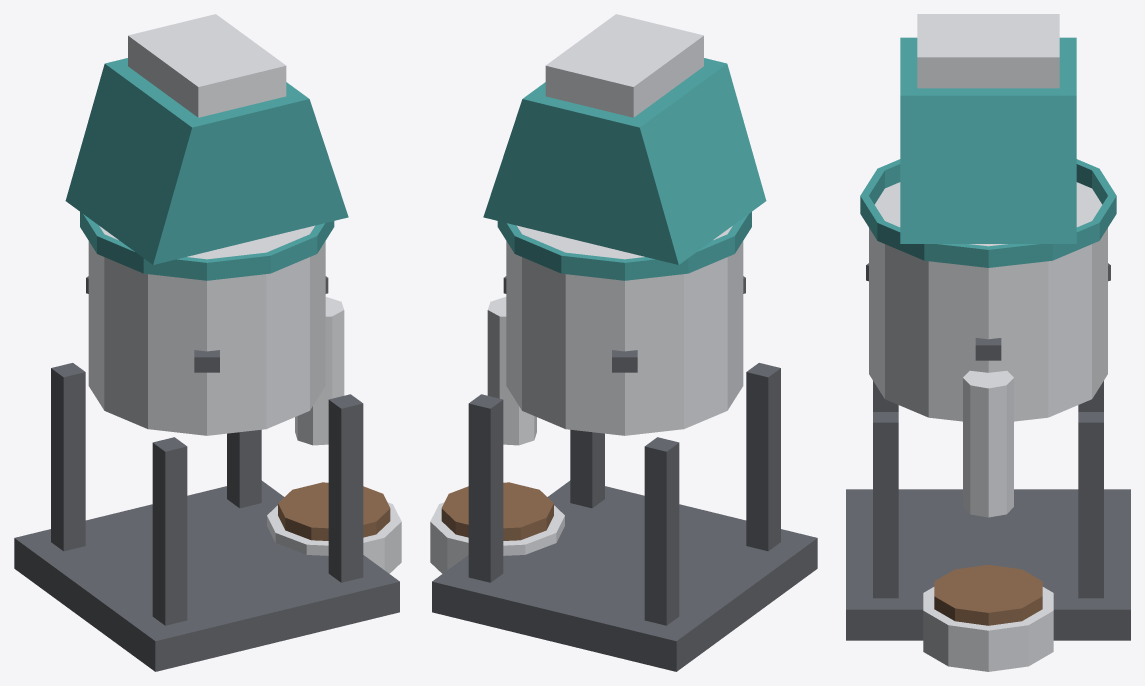
The model's file is chocolate-and-confectionery-factory-cocoa-grinder-mill-2e0255b1__36757.glb.
3 renders of one model, left to right at view 1: azimuth 30°, elevation 25°; view 2: azimuth 150°, elevation 25°; view 3: azimuth 270°, elevation 25°, orthographic.
Parts seen in each view (by area): view 1: cocoa-grinder-mill, paddle-grinder/dark; view 2: cocoa-grinder-mill, paddle-grinder/dark; view 3: cocoa-grinder-mill, paddle-grinder/dark.
Boxes of the visible parts, <box> form: cocoa-grinder-mill: <box>14,14,401,671</box>; paddle-grinder/dark: <box>86,276,328,372</box>; cocoa-grinder-mill: <box>430,14,817,671</box>; paddle-grinder/dark: <box>503,276,745,372</box>; cocoa-grinder-mill: <box>846,14,1130,671</box>; paddle-grinder/dark: <box>866,263,1110,360</box>.
Size of the model in its own units: 1.26 by 2.11 by 1.
